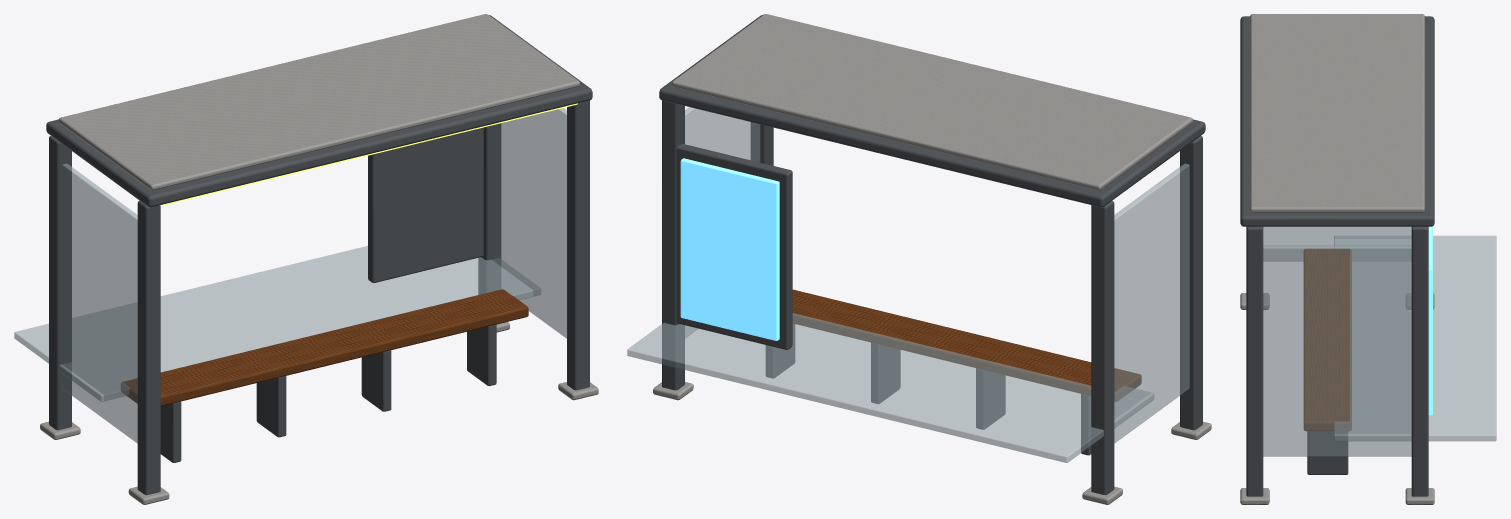
File: battle-royale-town-and-airfield-bus-shelter-df1a4894__28263.glb
3 views of the same model, side by side, from view 1: azimuth 30°, elevation 25°; view 2: azimuth 150°, elevation 25°; view 3: azimuth 270°, elevation 25° (orthographic). The views are drawn at different scales.
Parts seen in each view (by area): view 1: bus-shelter; view 2: bus-shelter; view 3: bus-shelter.
Part boxes in pixels (x1,y1,x2,y2): bus-shelter: [14, 14, 598, 504]; bus-shelter: [627, 14, 1211, 504]; bus-shelter: [1240, 14, 1496, 504].
Size of the model in its own units: 4.04 by 2.65 by 2.11.
Materials: 6 (2 with a texture image).
